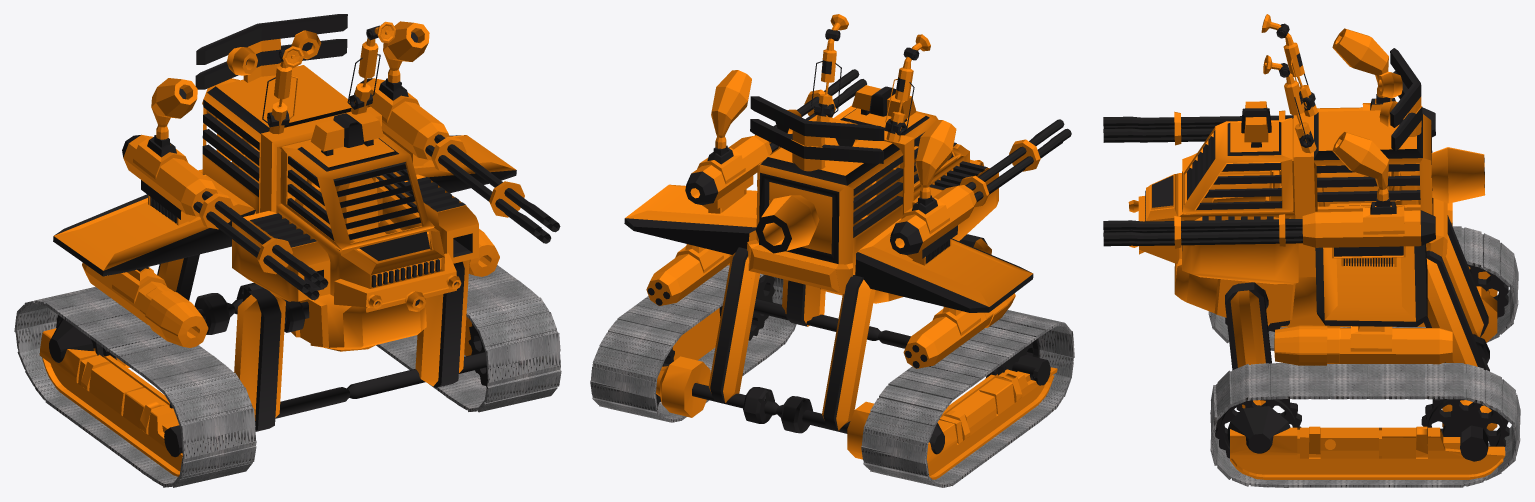
Rendered from Mech Robot 1.FBX.
3 renders of one model, left to right at view 1: azimuth 30°, elevation 25°; view 2: azimuth 150°, elevation 25°; view 3: azimuth 270°, elevation 25°, orthographic. The views are drawn at different scales.
Parts seen in each view (by area): view 1: Mech Robot, Side Belts, Right Gun, Left Gun, Right Missile, Left Antenna, Right Antenna, Left Missile; view 2: Mech Robot, Side Belts, Right Gun, Left Gun, Right Missile, Left Missile, Right Antenna, Left Antenna, Light Holder, BackLight, Left Front Tyre, Right Front Tyre; view 3: Mech Robot, Side Belts, Left Gun, Left Missile, Right Gun, Left Rear Tyre, Left Antenna, Right Antenna, Left Front Tyre, Right Rear Tyre.
Part boxes in pixels (x1=…): Mech Robot: x1=39, y1=14, x2=516, y2=476; Side Belts: x1=14, y1=265, x2=561, y2=487; Right Gun: x1=122, y1=78, x2=328, y2=300; Left Gun: x1=354, y1=21, x2=560, y2=243; Right Missile: x1=82, y1=262, x2=208, y2=347; Left Antenna: x1=347, y1=21, x2=395, y2=114; Right Antenna: x1=262, y1=46, x2=303, y2=134; Left Missile: x1=469, y1=229, x2=499, y2=276; Mech Robot: x1=624, y1=85, x2=1057, y2=479; Side Belts: x1=590, y1=265, x2=1074, y2=487; Right Gun: x1=890, y1=119, x2=1071, y2=254; Left Gun: x1=685, y1=69, x2=866, y2=204; Right Missile: x1=903, y1=293, x2=1015, y2=368; Left Missile: x1=646, y1=244, x2=731, y2=305; Right Antenna: x1=885, y1=34, x2=930, y2=142; Left Antenna: x1=811, y1=14, x2=848, y2=122; Light Holder: x1=749, y1=249, x2=839, y2=292; BackLight: x1=753, y1=257, x2=831, y2=287; Left Front Tyre: x1=719, y1=275, x2=774, y2=340; Right Front Tyre: x1=985, y1=338, x2=1039, y2=378; Mech Robot: x1=1128, y1=48, x2=1505, y2=479; Side Belts: x1=1208, y1=226, x2=1520, y2=487; Left Gun: x1=1103, y1=132, x2=1435, y2=248; Left Missile: x1=1274, y1=325, x2=1452, y2=365; Right Gun: x1=1103, y1=28, x2=1435, y2=145; Left Rear Tyre: x1=1421, y1=399, x2=1509, y2=446; Left Antenna: x1=1263, y1=55, x2=1316, y2=153; Right Antenna: x1=1261, y1=14, x2=1318, y2=116; Left Front Tyre: x1=1215, y1=399, x2=1301, y2=458; Right Rear Tyre: x1=1467, y1=264, x2=1508, y2=318.
Size of the model in its own units: 232 by 216 by 222.
Materials: 3 (3 with a texture image).
